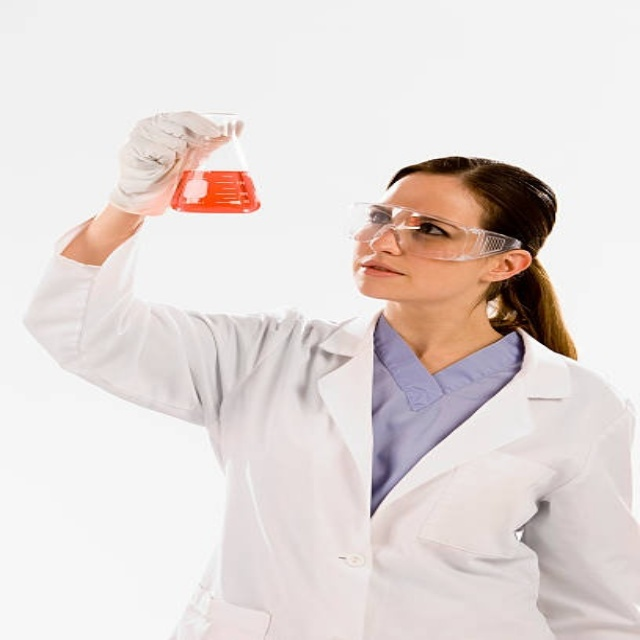Gafas: (345, 200, 516, 262)
Guantes: (107, 110, 240, 214)
Sin_mascara: (350, 257, 424, 296)
